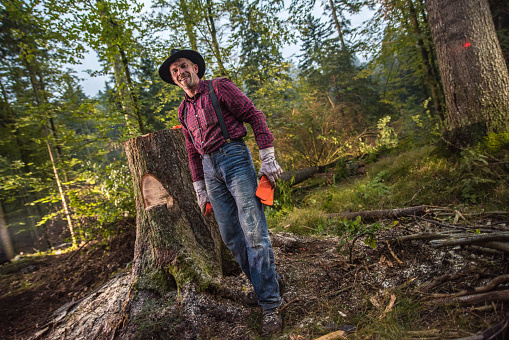em pe: (157, 51, 294, 308)
